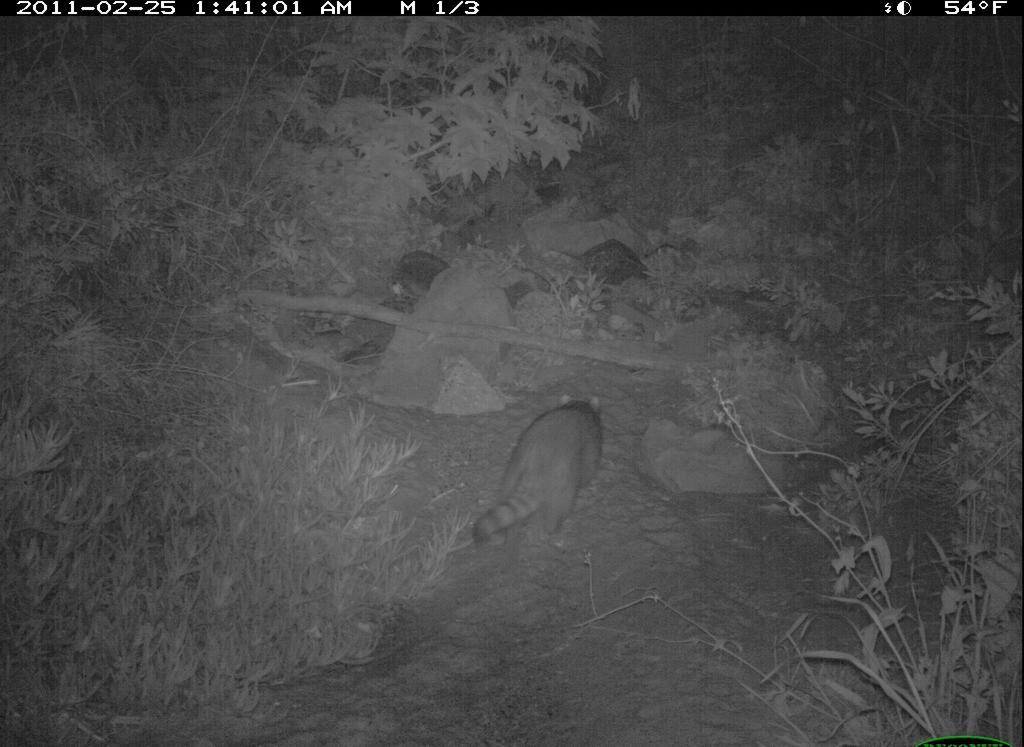raccoon: (464, 383, 617, 562)
